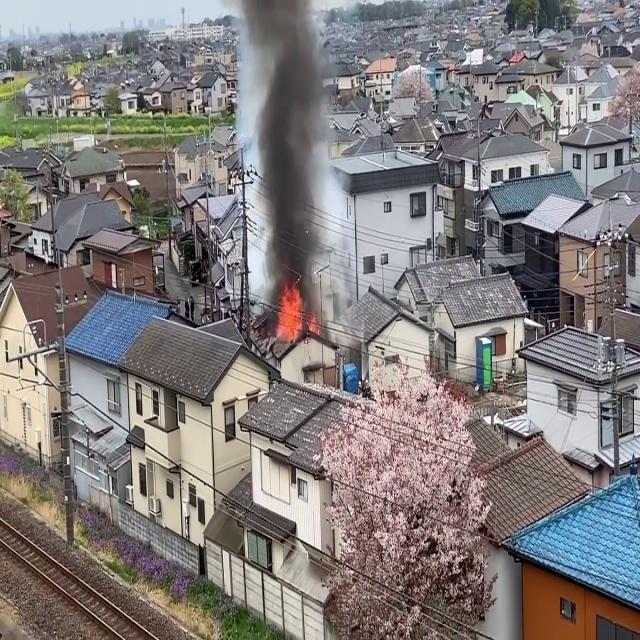Fire: (273, 281, 307, 345)
Smoke: (241, 0, 347, 309)
